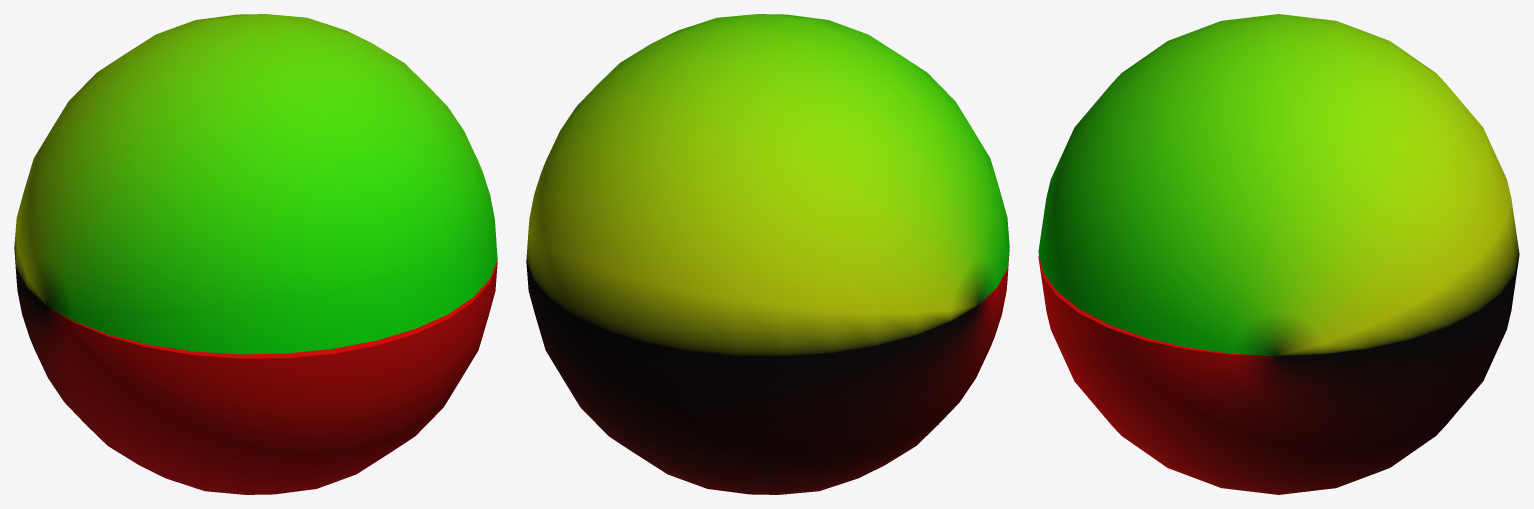
Rendered from eyelidSphereVertexColor.fbx.
3 renders of one model, left to right at view 1: azimuth 30°, elevation 25°; view 2: azimuth 150°, elevation 25°; view 3: azimuth 270°, elevation 25°, orthographic.
Visible parts, largest first — view 1: eyelidSphereVertexColors; view 2: eyelidSphereVertexColors; view 3: eyelidSphereVertexColors.
Part boxes in pixels (x1,y1,x2,y2): eyelidSphereVertexColors: (14,14,497,494); eyelidSphereVertexColors: (526,14,1009,494); eyelidSphereVertexColors: (1038,14,1519,494).
Size of the model in its own units: 2.2 by 2.2 by 2.2.
